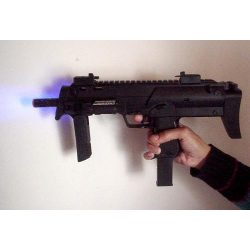rifle: (29, 53, 241, 125)
rifle in hand: (27, 71, 246, 205)
